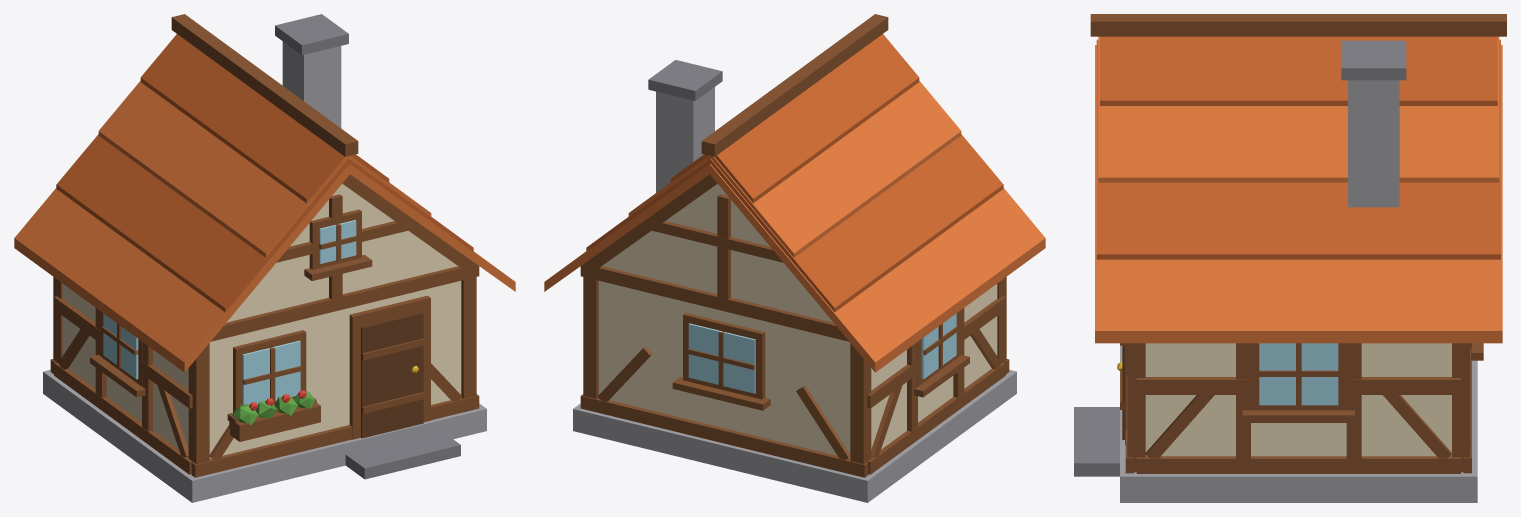
File: prop-cottage.glb
3 views of the same model, side by side, from view 1: azimuth 30°, elevation 25°; view 2: azimuth 150°, elevation 25°; view 3: azimuth 270°, elevation 25° (orthographic). The views are drawn at different scales.
Parts seen in each view (by area): view 1: Cottage; view 2: Cottage; view 3: Cottage.
Part boxes in pixels (x1,y1,x2,y2): Cottage: (14, 14, 515, 502); Cottage: (544, 14, 1045, 502); Cottage: (1074, 14, 1506, 502).
Bounding box in the file's own units: 5.5 × 5.41 × 5.2.
